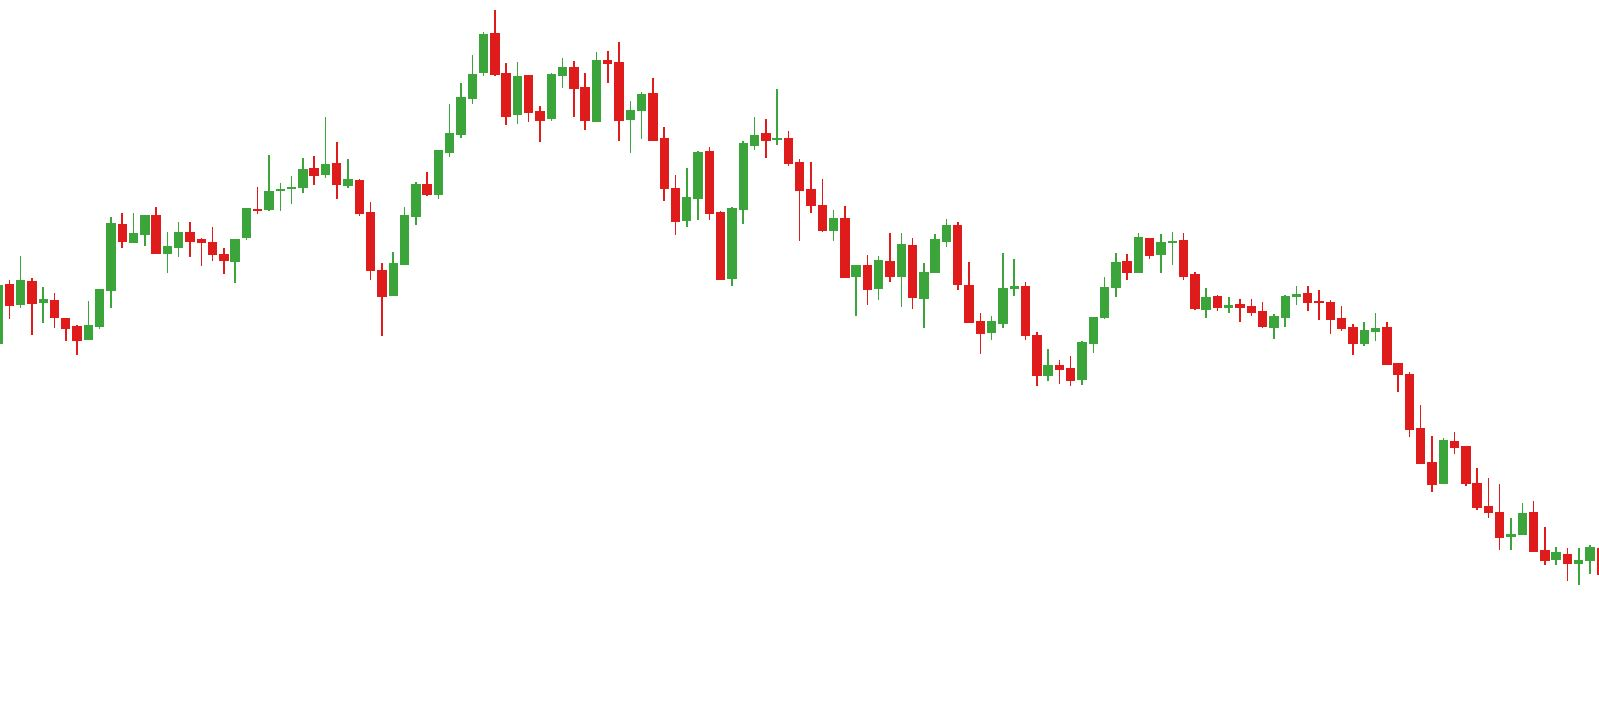buy: (227, 193, 399, 335)
